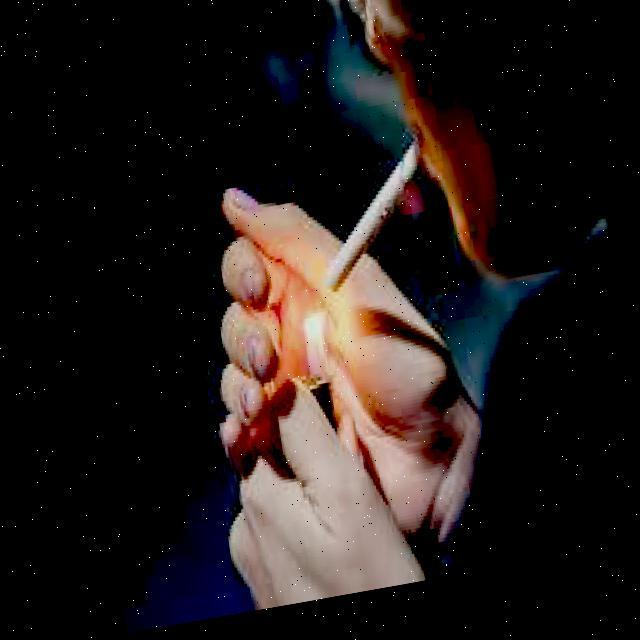Fire: (276, 302, 336, 393)
